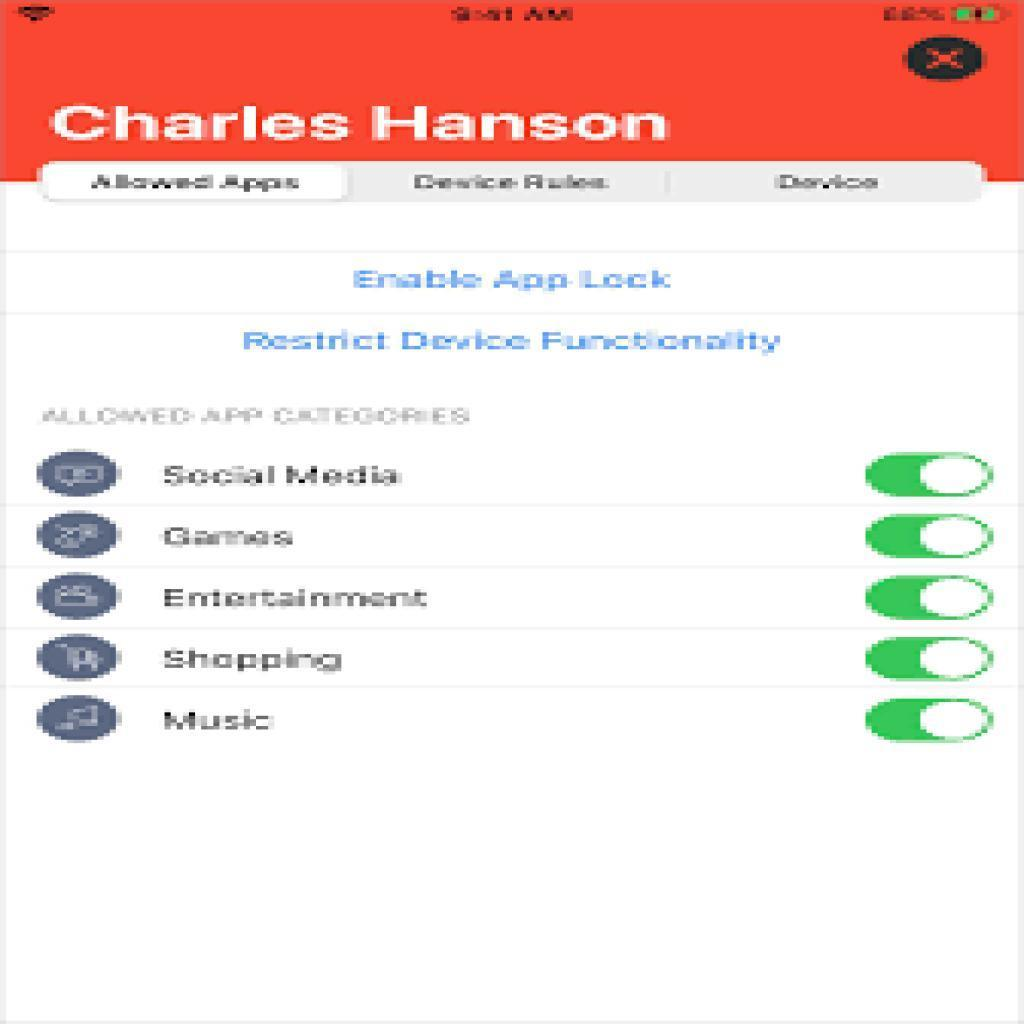switch: (862, 512, 999, 566), (866, 694, 998, 750), (862, 573, 1002, 622), (862, 451, 1000, 500), (866, 631, 998, 681)
